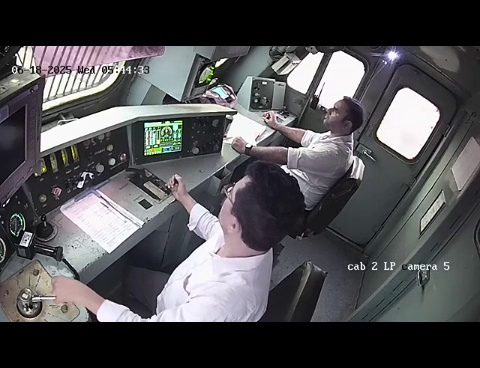brake_applied: (1, 256, 108, 322)
horn_inactive: (25, 207, 69, 246)
